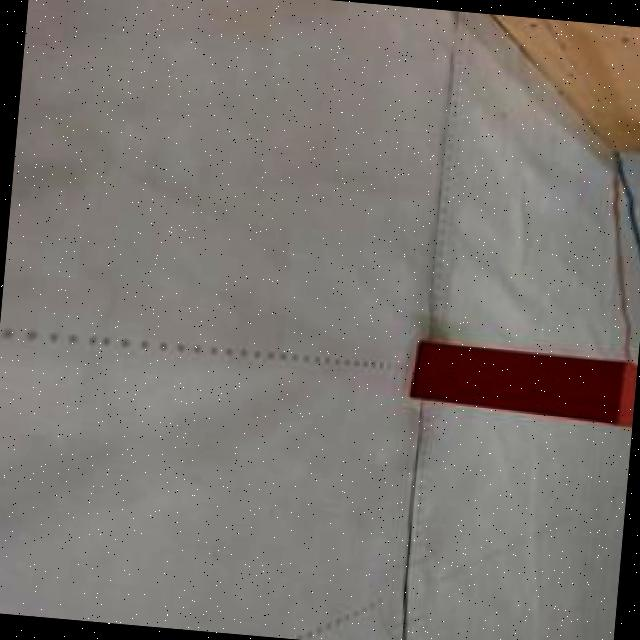redbox: (406, 342, 638, 428)
